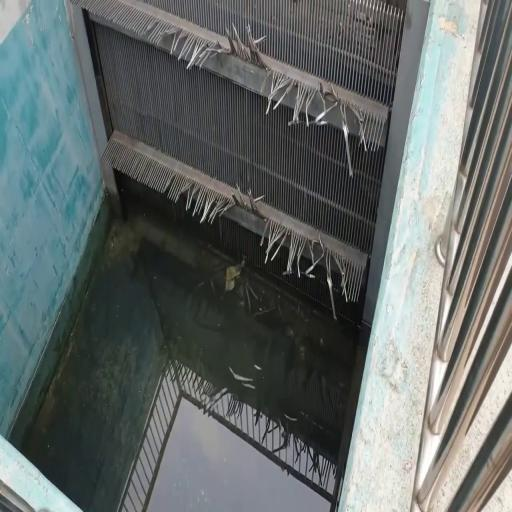rake_broken: (213, 20, 259, 80), (282, 66, 324, 126), (344, 95, 382, 160), (224, 171, 267, 223), (189, 178, 228, 229), (262, 219, 300, 270), (258, 56, 286, 122), (303, 230, 333, 288), (332, 241, 356, 310), (164, 17, 195, 69), (162, 162, 194, 209), (186, 25, 217, 72), (328, 88, 352, 142), (140, 18, 166, 55)
